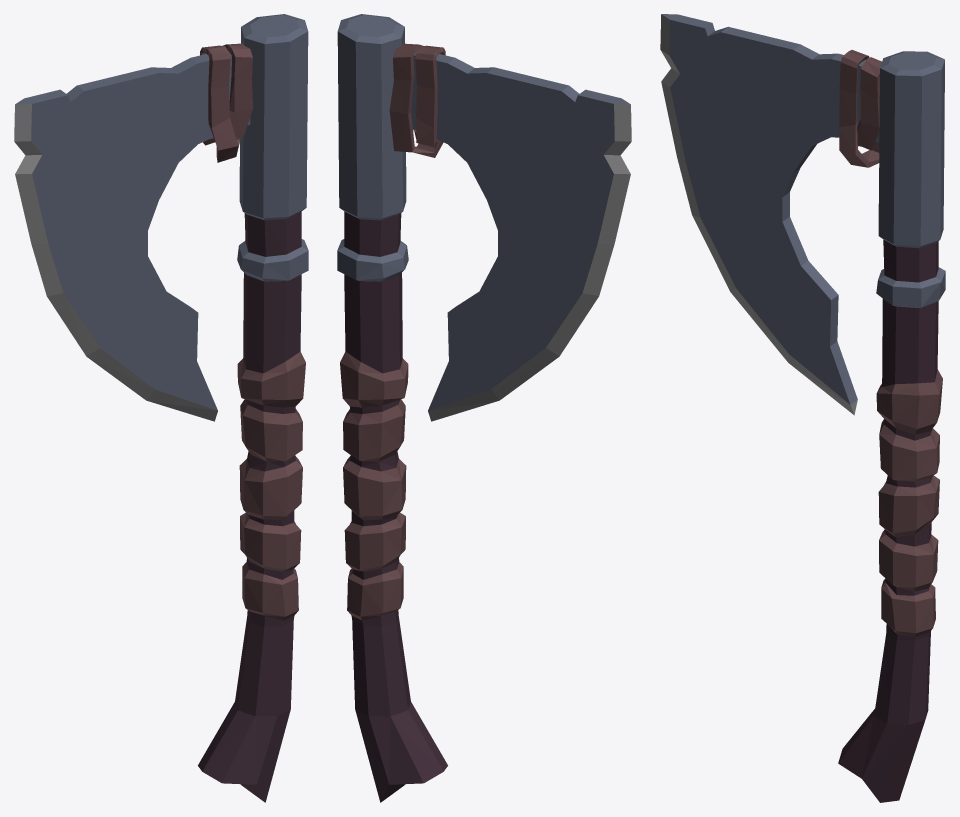
Rendered from Axe.ready.glb.
The picture shows the model from 3 angles, left to right: view 1: azimuth 30°, elevation 25°; view 2: azimuth 150°, elevation 25°; view 3: azimuth 330°, elevation 25°; orthographic projection. The views are drawn at different scales.
Parts seen in each view (by area): view 1: Axe; view 2: Axe; view 3: Axe.
Boxes of the visible parts, x1,y1,x2,y2 form: Axe: (14,14,308,802); Axe: (337,14,631,802); Axe: (660,14,945,802).
Bounding box in the file's own units: 0.6236 × 1.57 × 0.1322.
1 material, 1 textured.
